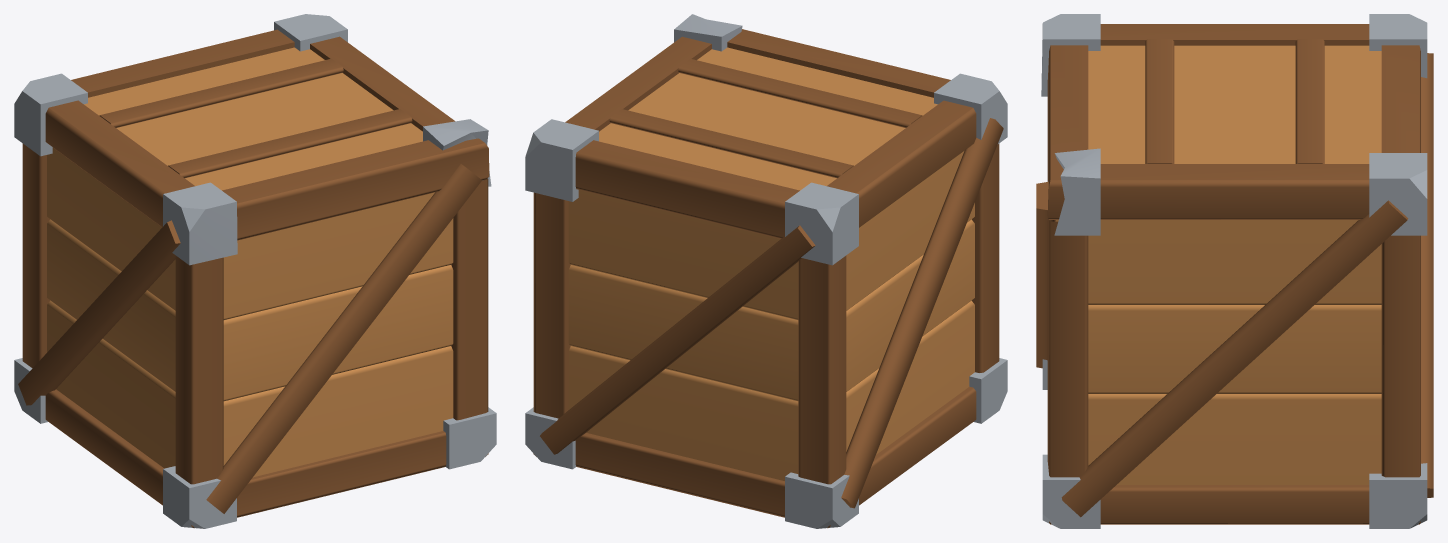
The model's file is Caja.fbx.
3 views of the same model, side by side, from view 1: azimuth 30°, elevation 25°; view 2: azimuth 150°, elevation 25°; view 3: azimuth 270°, elevation 25° (orthographic). The views are drawn at different scales.
Visible parts, largest first — view 1: Caja; view 2: Caja; view 3: Caja.
Boxes of the visible parts, x1=… form: Caja: x1=14, y1=14, x2=496, y2=528; Caja: x1=525, y1=14, x2=1007, y2=528; Caja: x1=1036, y1=14, x2=1433, y2=528.
Size of the model in its own units: 3.16 by 3.08 by 3.12.
Materials: 1 (1 with a texture image).
